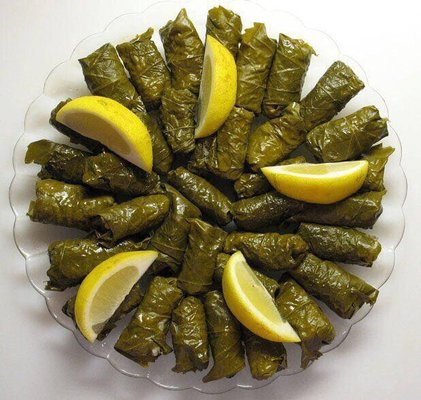pasta: (221, 249, 302, 344)
steak: (263, 159, 370, 205)
